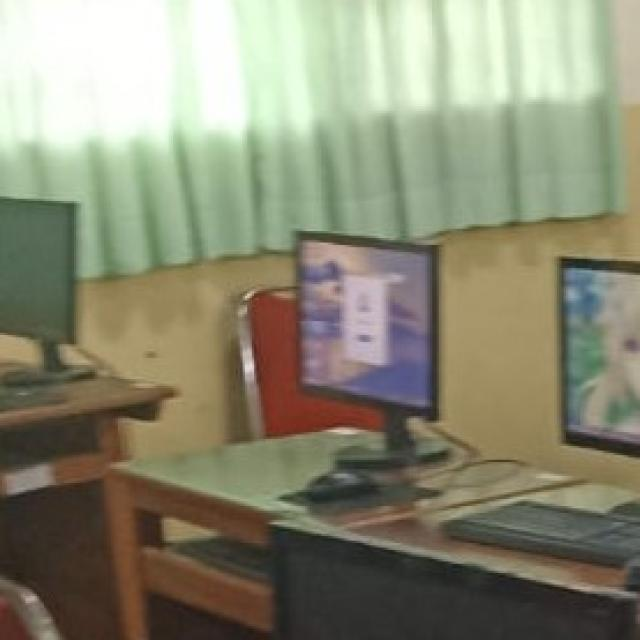offscreen: (0, 199, 75, 341)
onscreen: (301, 232, 435, 414), (564, 259, 640, 454)
